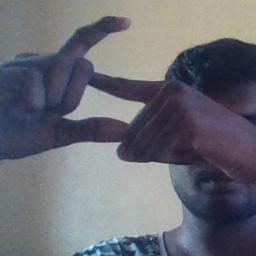E: (44, 15, 157, 146)
